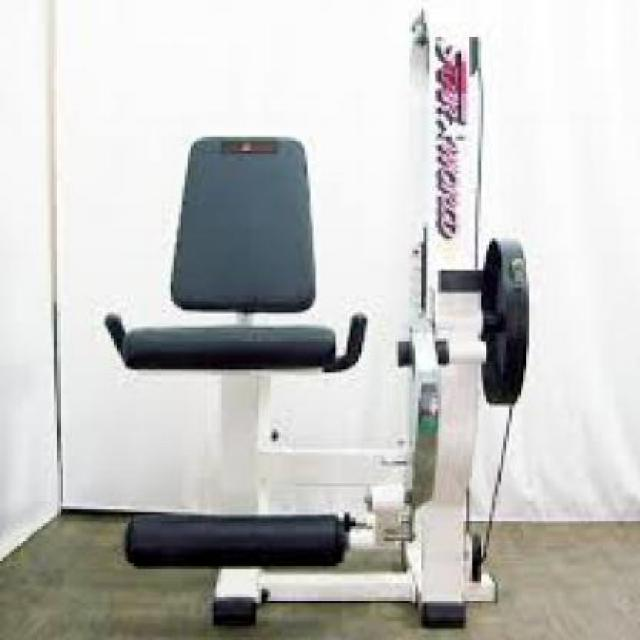leg extension: (91, 0, 549, 640)
